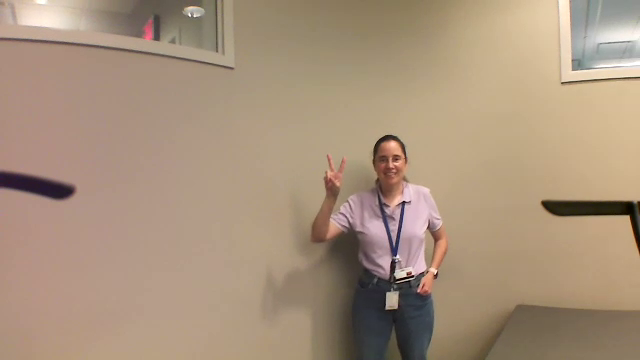peace: (316, 147, 352, 194)
